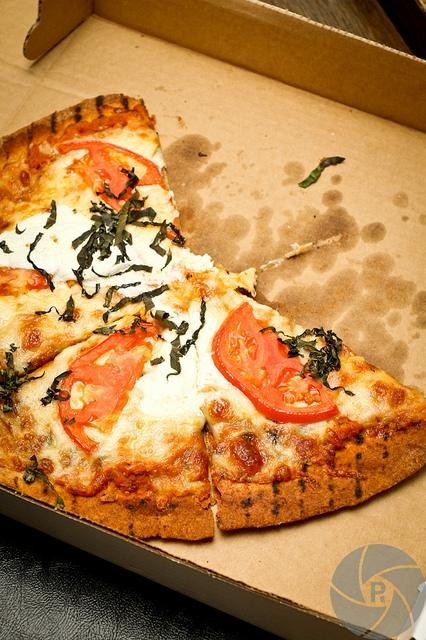tomato: (211, 302, 343, 424), (58, 323, 160, 453), (56, 140, 168, 213)
